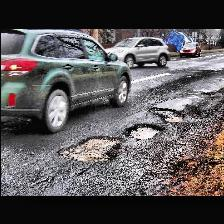pothole: (57, 133, 124, 163), (124, 122, 162, 140), (148, 106, 184, 122)
